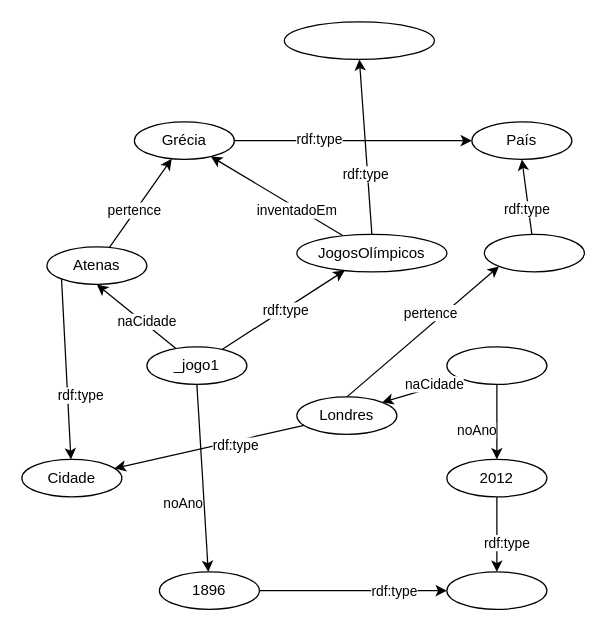
Some shapes in this 606 by 631 pixel diagram are drawn without their labels. The centre of each missing label's shape, as x and y in pixels:
"_jogo2" belongs at point 496,365.
"Ano" belongs at point 496,590.
"rdfs:class" belongs at point 358,40.
"ReinoUnido" belongs at point 533,252.
